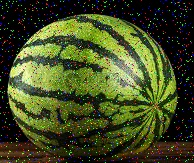watermelon: (8, 14, 176, 161)
